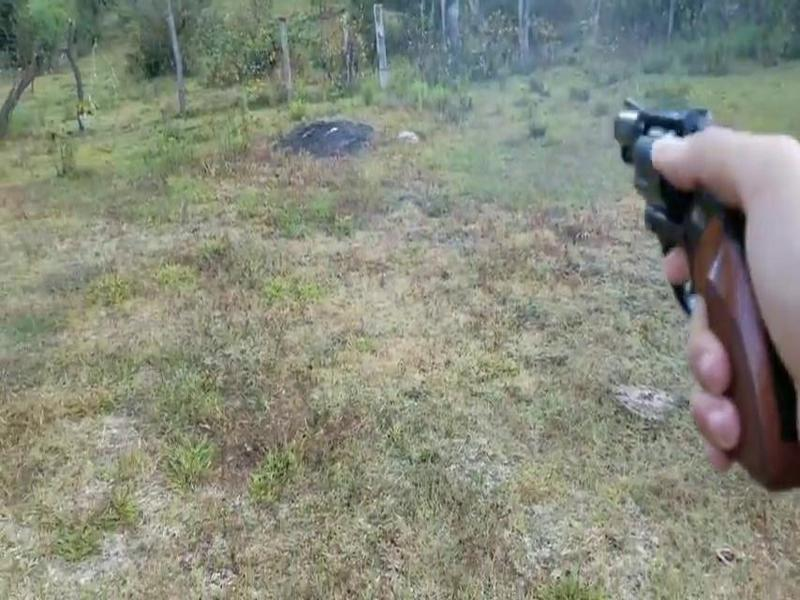Revolver: (586, 89, 800, 464)
